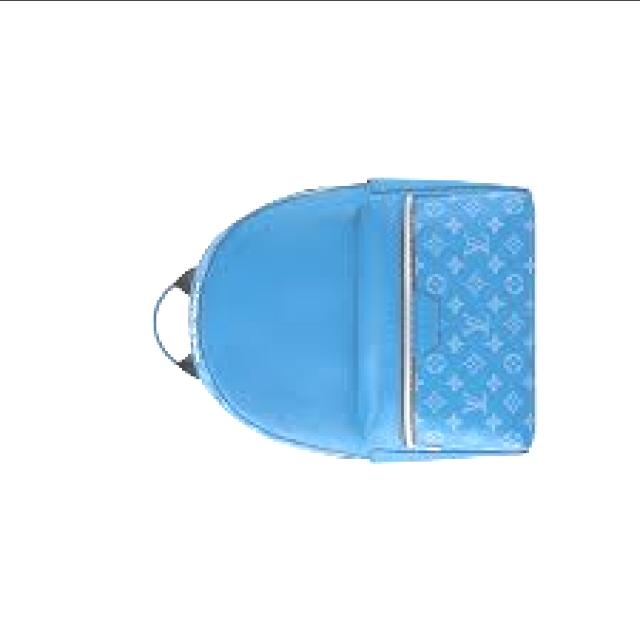backpack: (149, 178, 536, 468)
